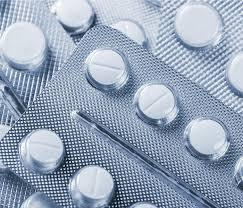pill_Strip: (0, 26, 242, 207), (73, 30, 241, 206), (0, 88, 197, 207), (1, 103, 202, 207), (92, 48, 241, 170), (71, 111, 216, 207), (71, 111, 213, 206), (154, 0, 242, 114), (155, 0, 241, 112), (0, 0, 74, 125), (0, 0, 74, 107), (0, 0, 73, 104), (89, 0, 160, 51), (174, 1, 223, 50), (0, 21, 47, 72), (19, 129, 64, 173), (133, 82, 178, 125), (85, 47, 129, 90), (69, 165, 115, 206), (0, 162, 39, 207), (50, 0, 94, 35), (0, 71, 25, 127), (0, 167, 35, 207), (0, 72, 25, 119), (1, 0, 41, 28), (1, 0, 35, 31), (111, 19, 147, 47), (196, 120, 224, 154), (0, 83, 25, 119), (225, 51, 242, 97), (20, 192, 56, 207), (59, 22, 84, 43), (143, 93, 168, 112), (0, 102, 15, 127), (234, 156, 242, 190), (90, 62, 121, 70), (32, 142, 58, 150), (129, 202, 155, 207), (0, 125, 10, 138), (145, 0, 161, 6)
